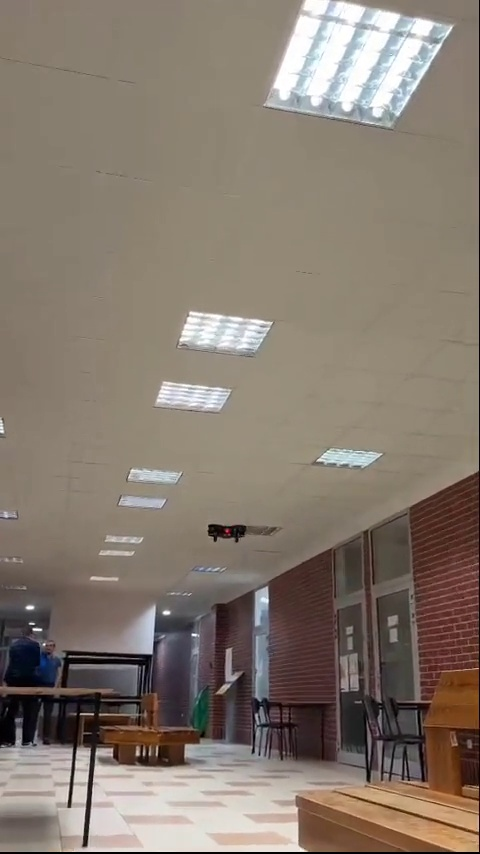drone: (204, 521, 252, 541)
no vest: (9, 614, 38, 733), (44, 638, 66, 739)
